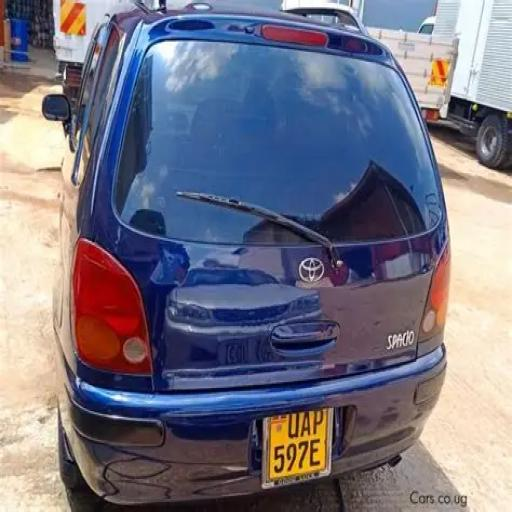number-plates: (266, 407, 328, 474)
